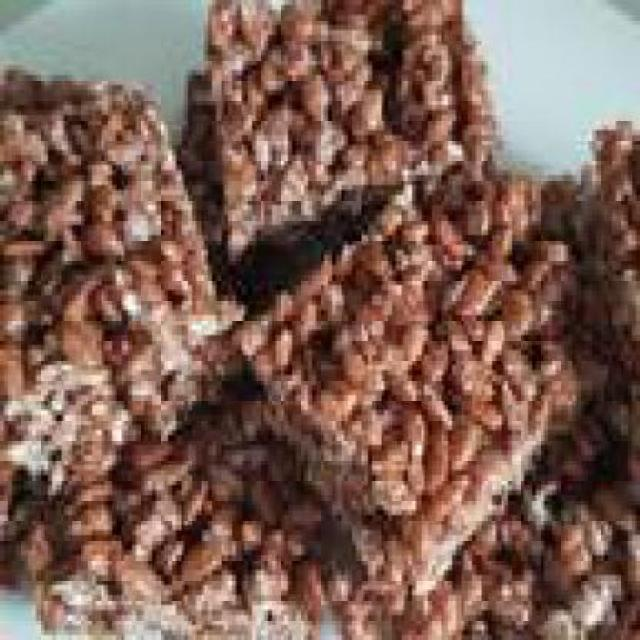Cereal bar packaged: (272, 170, 600, 566)
